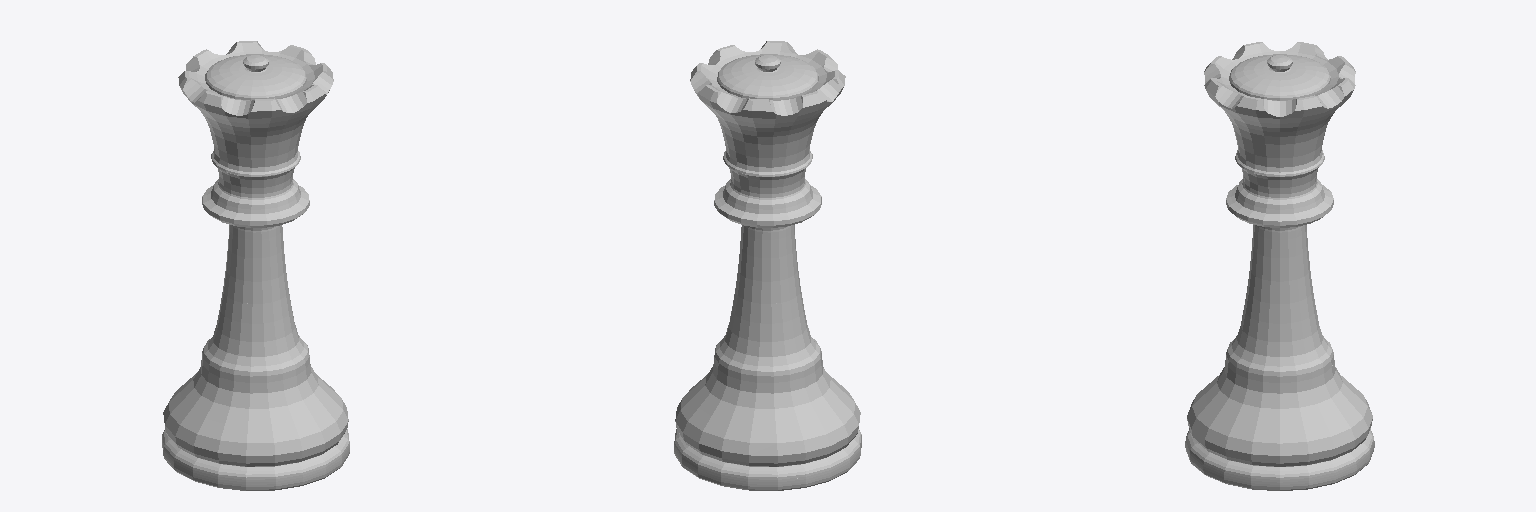
Rendered from queen_w.obj.
3 views of the same model, side by side, from view 1: azimuth 30°, elevation 25°; view 2: azimuth 150°, elevation 25°; view 3: azimuth 270°, elevation 25° (orthographic).
Visible parts, largest first — view 1: queen_w; view 2: queen_w; view 3: queen_w.
Part boxes in pixels (x1,y1,x2,y2): queen_w: (162,41,349,490); queen_w: (674,41,861,490); queen_w: (1185,42,1374,490).
Bounding box in the file's own units: 3.72 × 8.59 × 3.72.